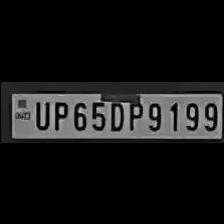1: (164, 98, 181, 132)
5: (88, 97, 106, 130)
6: (69, 97, 87, 129)
9: (143, 98, 163, 132), (180, 98, 200, 130), (200, 98, 218, 130)
D: (108, 97, 125, 130)
P: (50, 97, 68, 130), (124, 97, 142, 130)
U: (31, 97, 50, 129)
